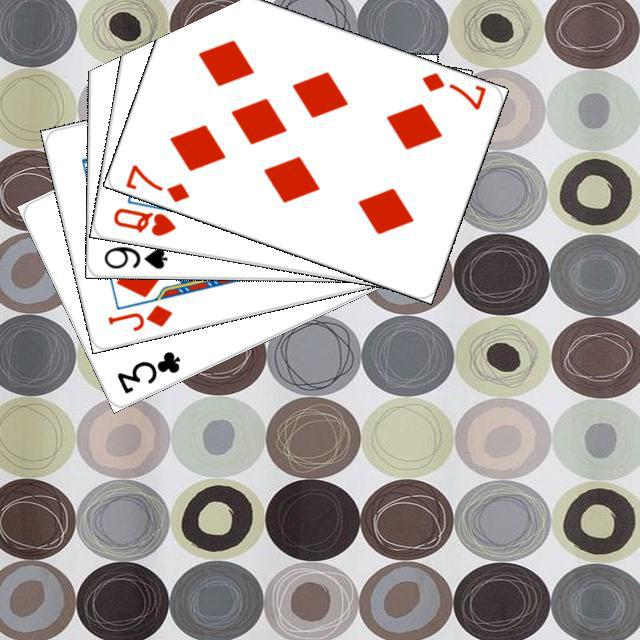3c: (112, 346, 183, 396)
7d: (121, 159, 192, 205), (417, 67, 487, 112)
9s: (99, 241, 169, 271)
Jd: (102, 299, 174, 333)
Qh: (108, 203, 178, 238)
